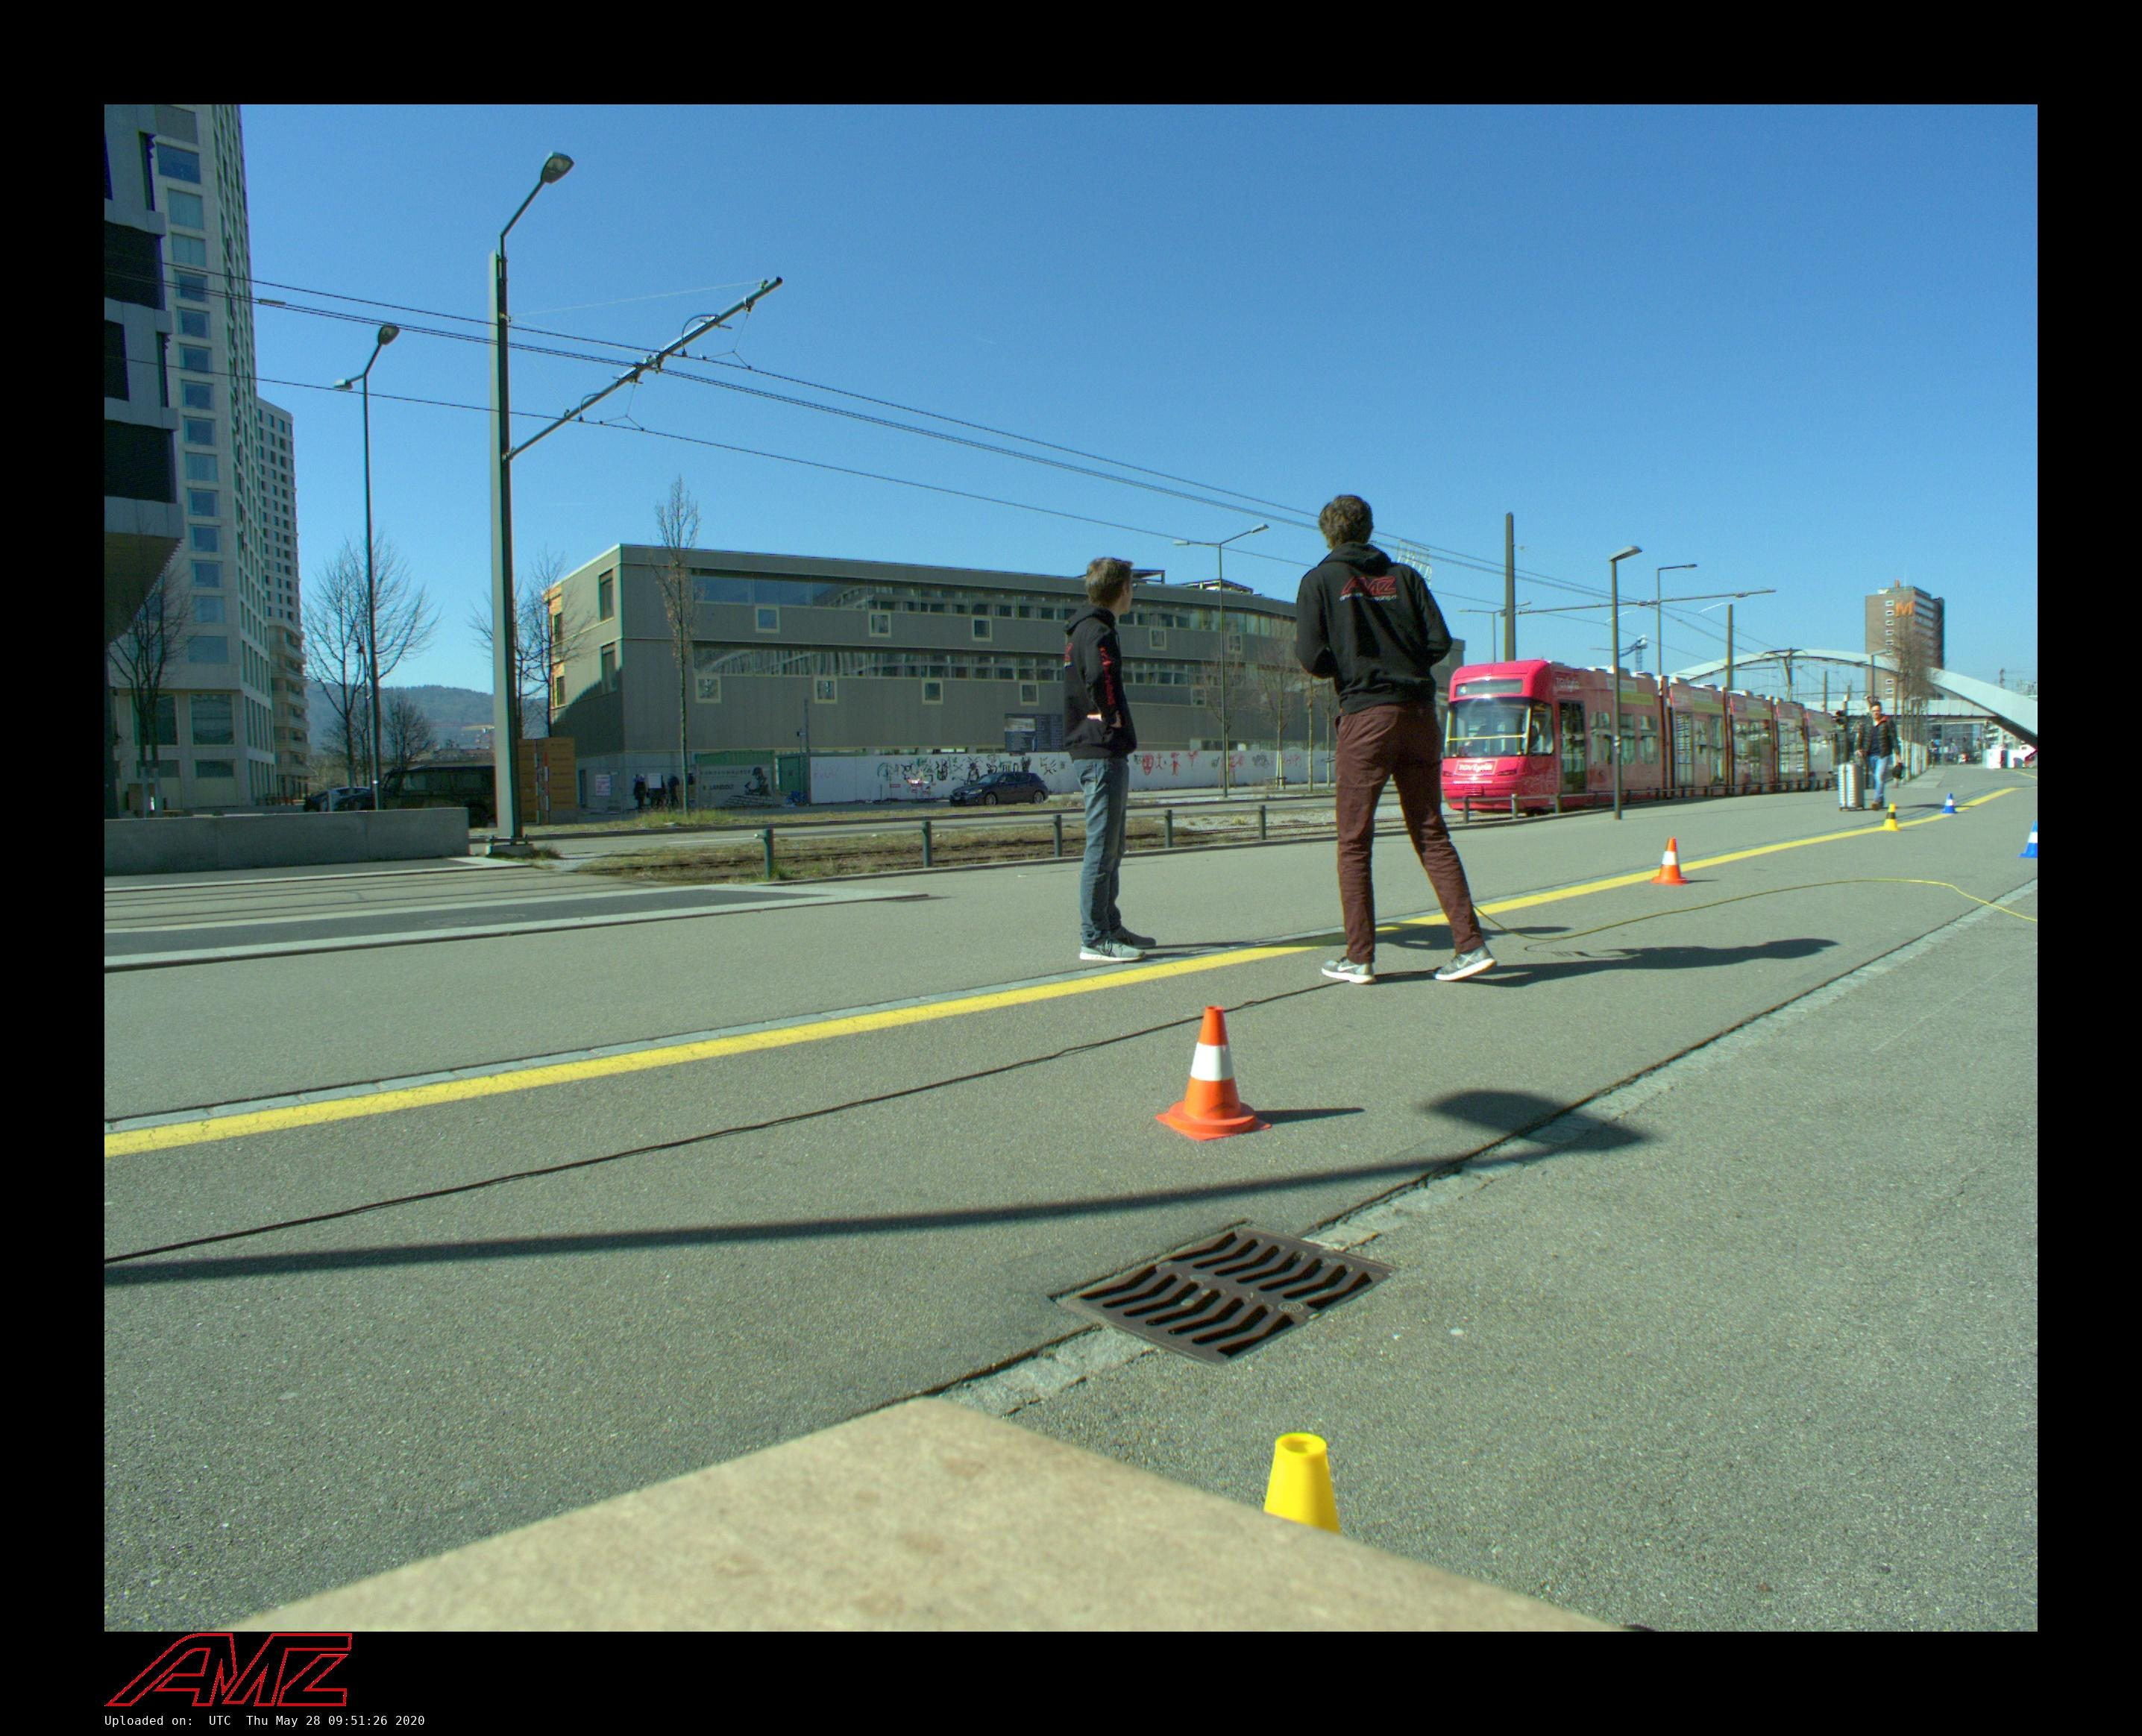blue_cone: (2014, 820, 2037, 857), (1942, 792, 1958, 815)
orange_cone: (1155, 1006, 1272, 1141), (1649, 838, 1692, 886)
yellow_cone: (1878, 804, 1901, 831)
